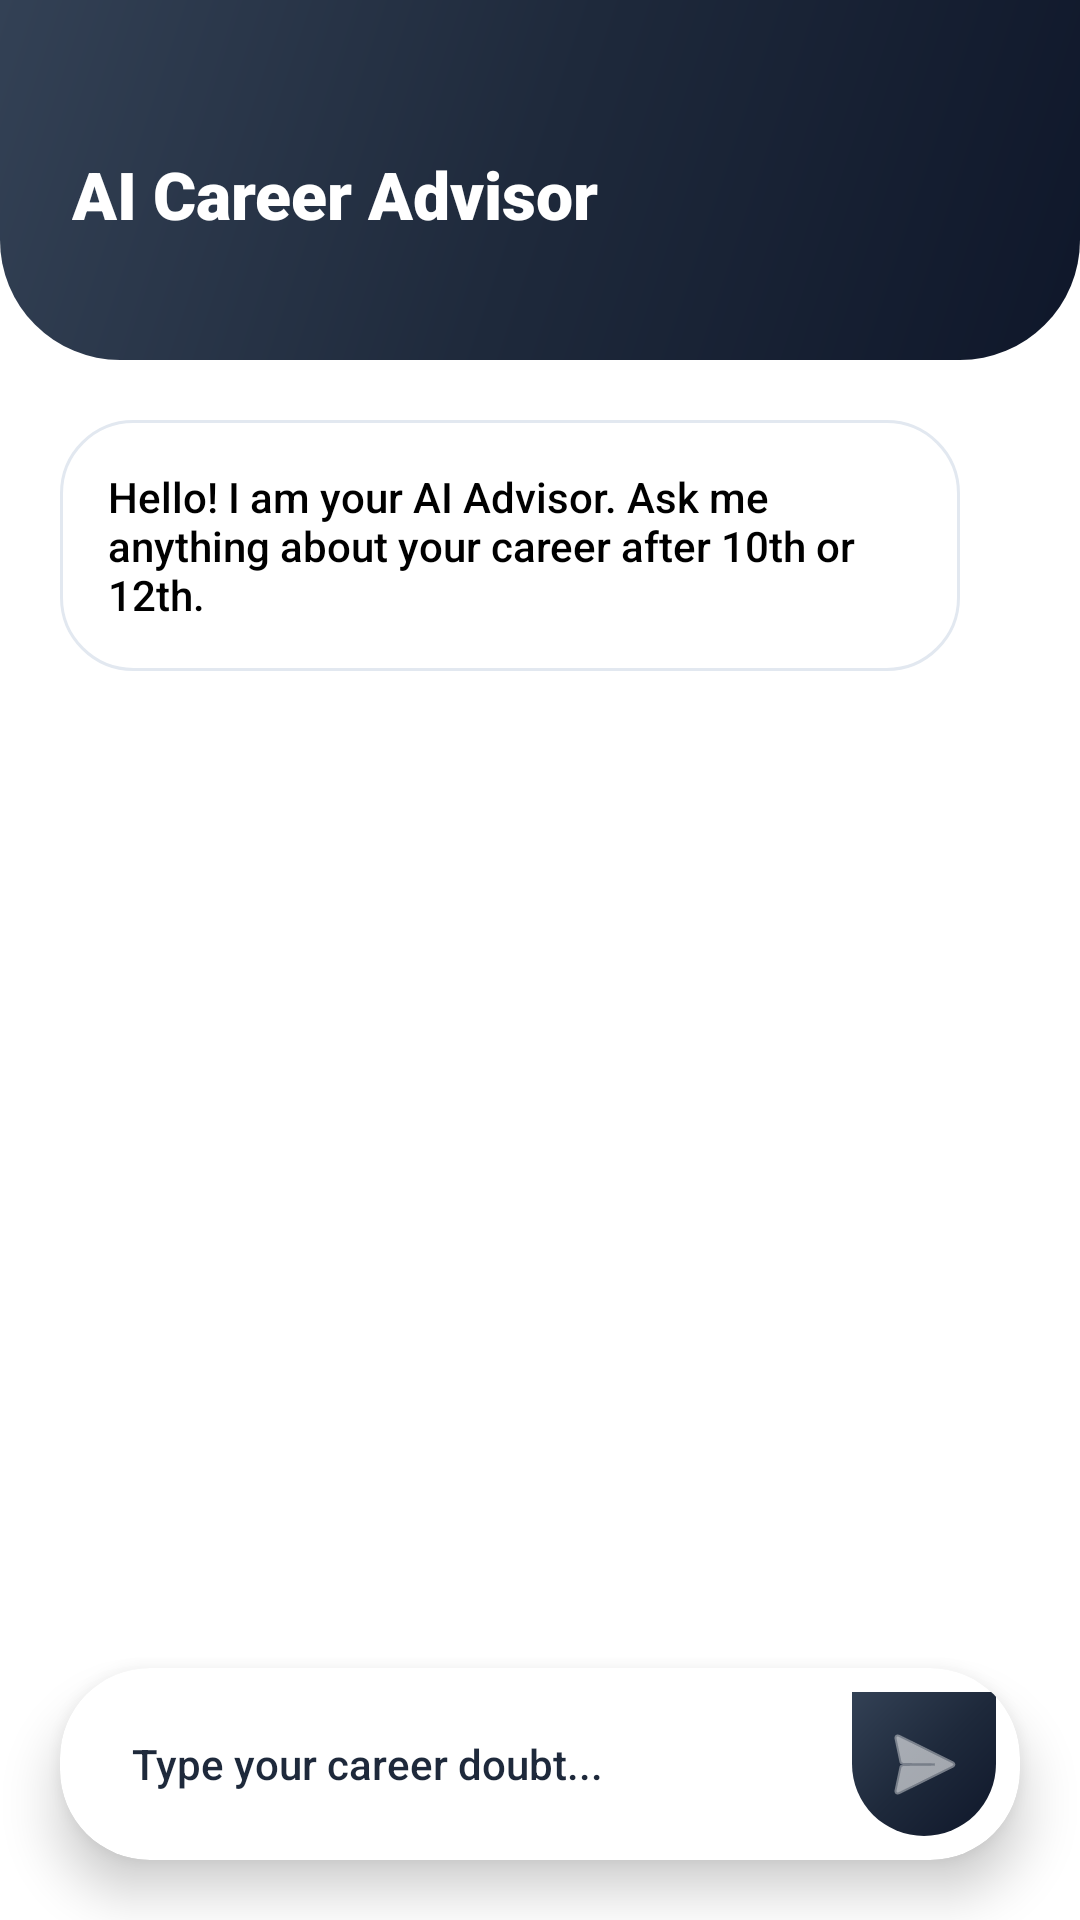

Where icons sit on this 1080px x 1920px app screen, as rect(x1, y1, x2, y2):
send: rect(852, 1692, 996, 1836)
